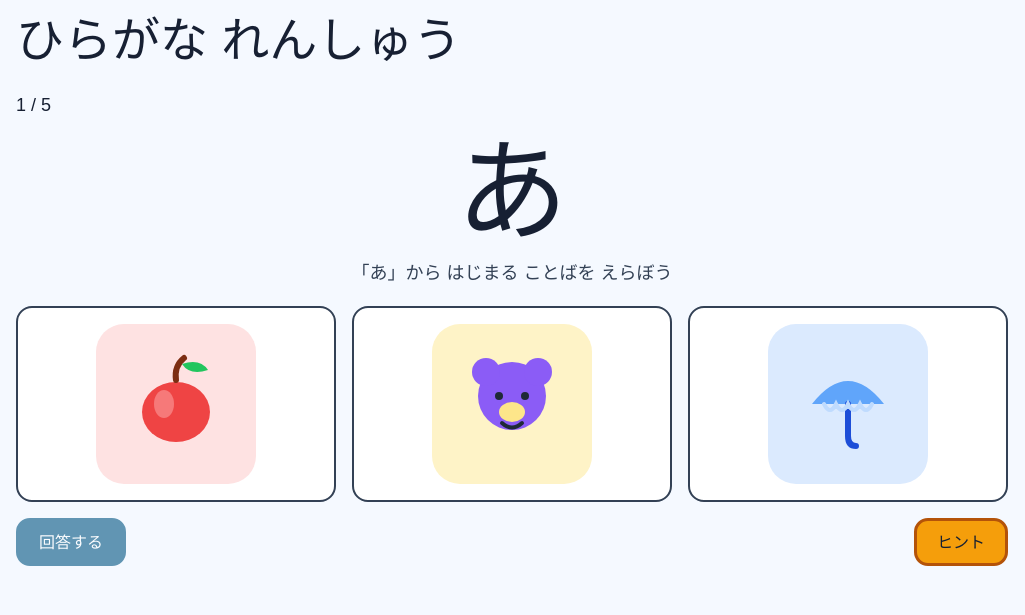
Test case: QuizPage › shows picture labels when the hint button is pressed
The width and height of the screenshot is (1025, 615).
Expected: the text "りんご" is not shown
What coordinates should you click on to do the following:
click the button "ヒント"
I would click on:
 (961, 542)
Its box is [914, 518, 1008, 566].
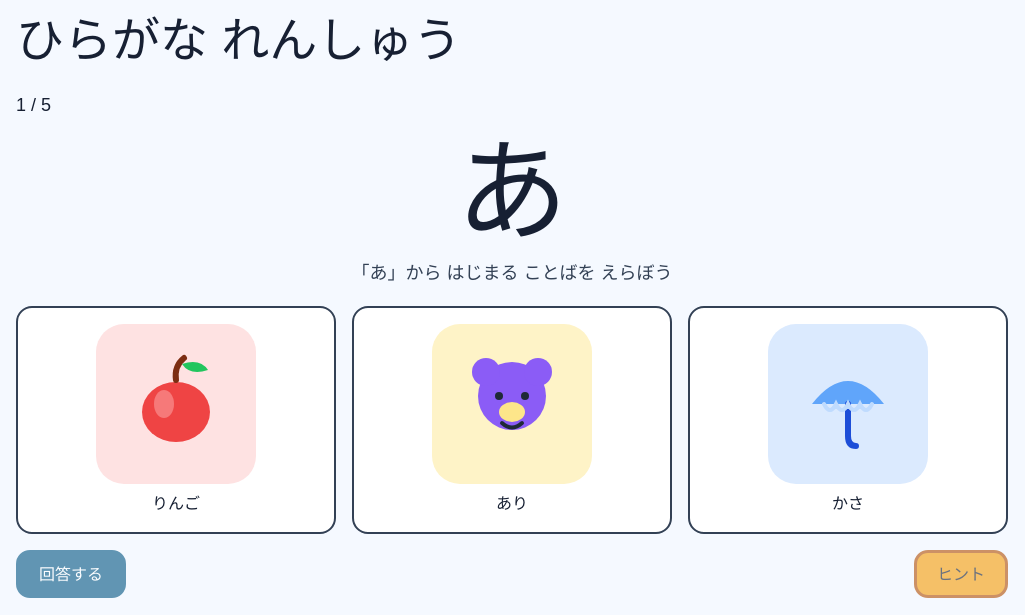
Now the text "りんご" is shown, box [152, 492, 200, 516]
Now the text "あり" is shown, box [496, 492, 528, 516]
Now the text "かさ" is shown, box [832, 492, 864, 516]
